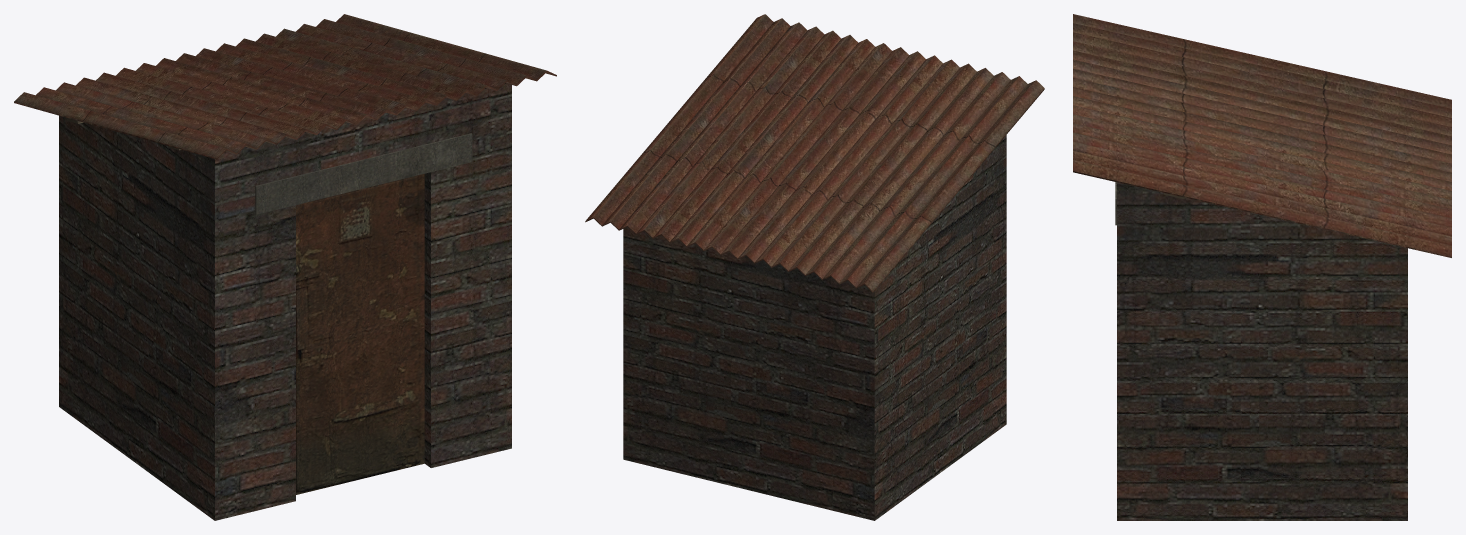
The model's file is shed_ax_1.obj.
The picture shows the model from 3 angles, left to right: view 1: azimuth 30°, elevation 25°; view 2: azimuth 150°, elevation 25°; view 3: azimuth 270°, elevation 25°; orthographic projection. The views are drawn at different scales.
Visible parts, largest first — view 1: shed_ax_1, door_hr_7; view 2: shed_ax_1; view 3: shed_ax_1.
Part boxes in pixels (x1,y1,x2,y2): shed_ax_1: [14, 14, 556, 520]; door_hr_7: [296, 174, 424, 494]; shed_ax_1: [585, 14, 1044, 520]; shed_ax_1: [1073, 14, 1451, 520].
Bounding box in the file's own units: 2.52 × 2.77 × 2.6.
